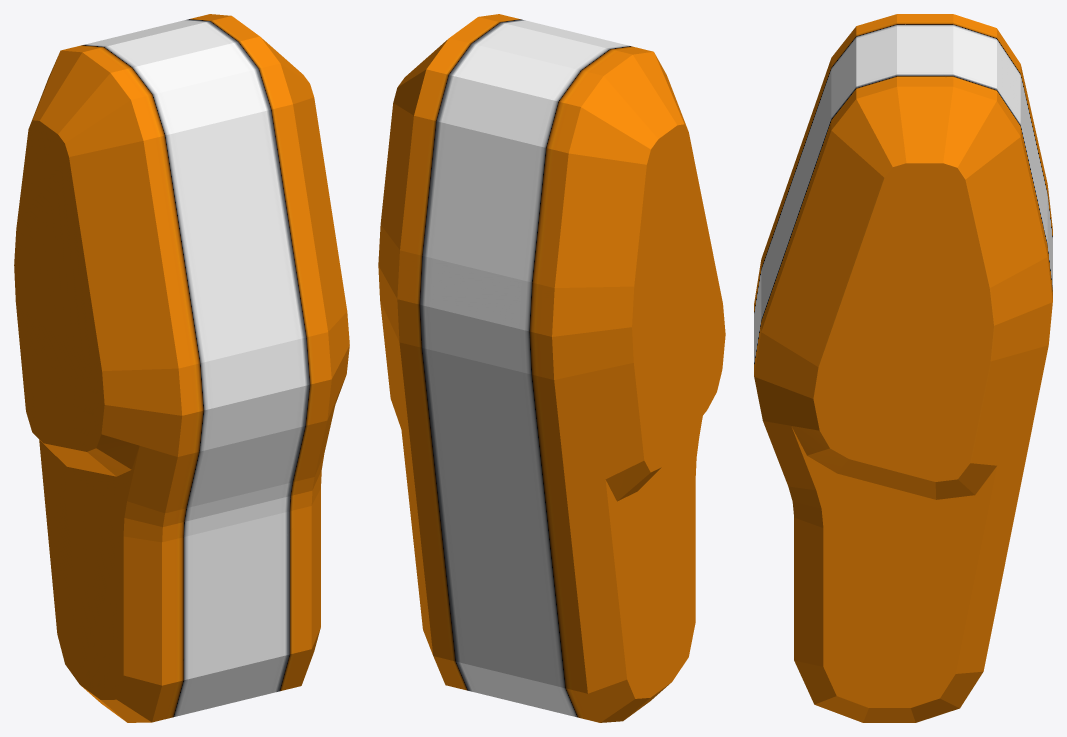
File: R_ELBOW_P_S.dae
3 views of the same model, side by side, from view 1: azimuth 30°, elevation 25°; view 2: azimuth 150°, elevation 25°; view 3: azimuth 270°, elevation 25° (orthographic). The views are drawn at different scales.
Parts seen in each view (by area): view 1: root; view 2: root; view 3: root.
Boxes of the visible parts, bbox=[...] form: root: bbox=[14, 14, 349, 722]; root: bbox=[378, 14, 725, 722]; root: bbox=[754, 14, 1052, 722].
Size of the model in its own units: 0.082 by 0.0867 by 0.2037.
1 material, 1 textured.
